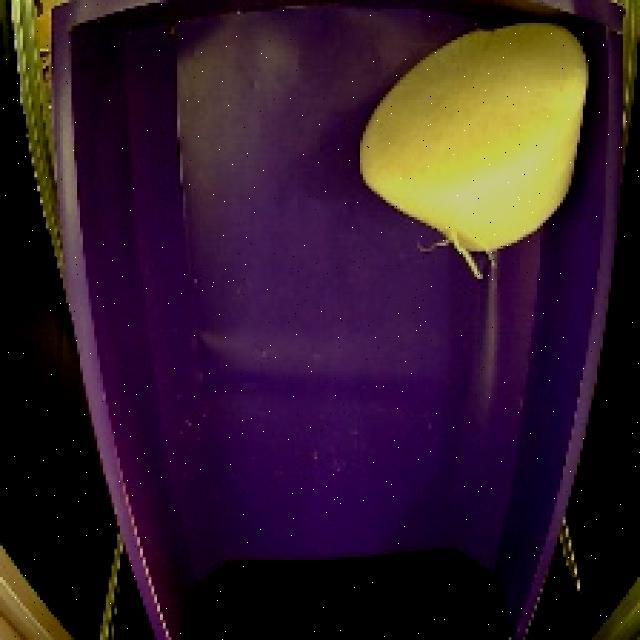white_radish: (351, 25, 593, 289)
